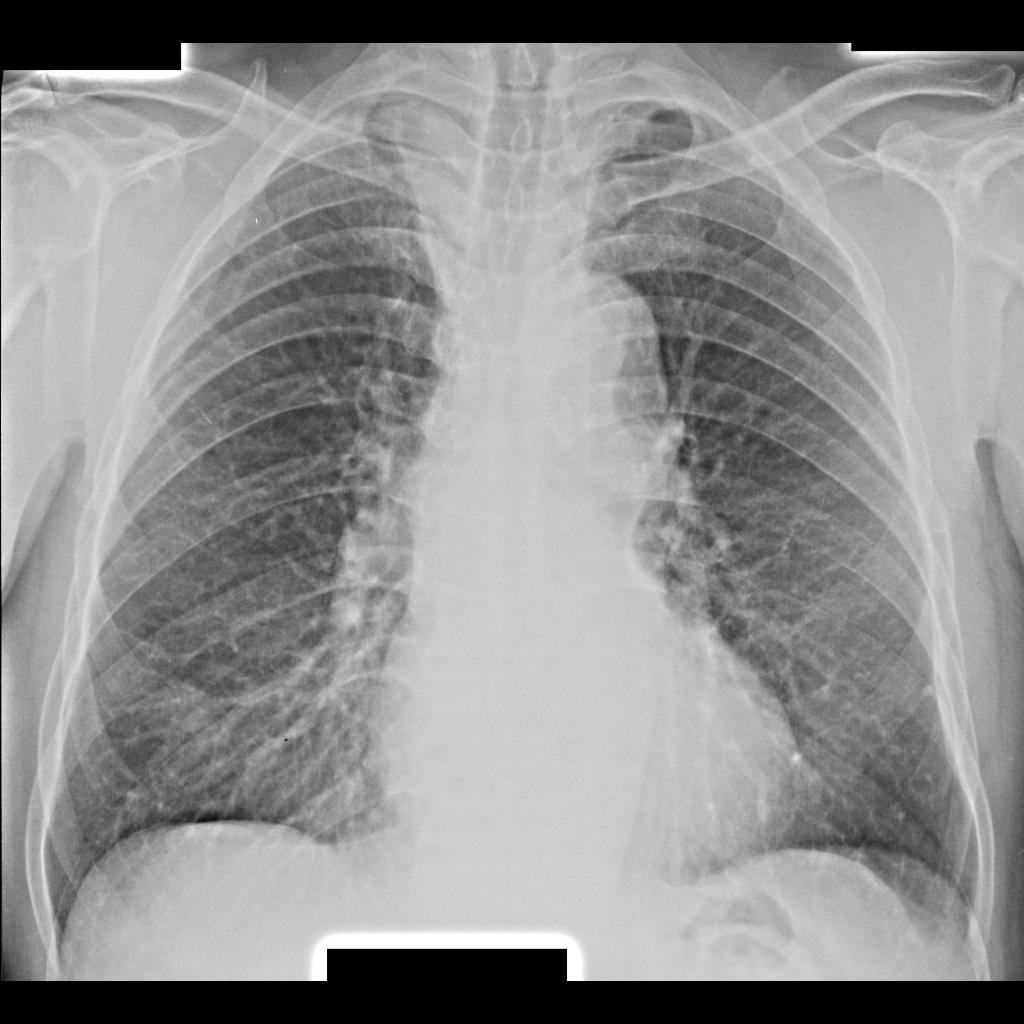Nodule: (146, 681, 209, 744)
